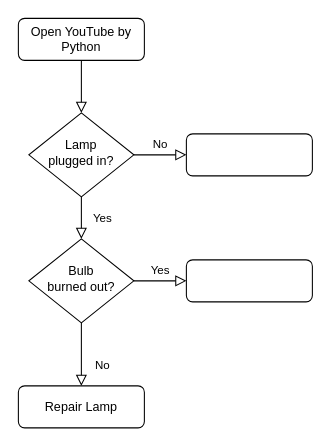
The diagram is 331 pixels wide and 446 high, and some of its shapes have lost their labels. Here are the shapes that lost their labels. From the top down, the box of each, then its label:
(185, 133, 312, 176): Plug in lamp
(185, 259, 312, 302): Replace Bulb
